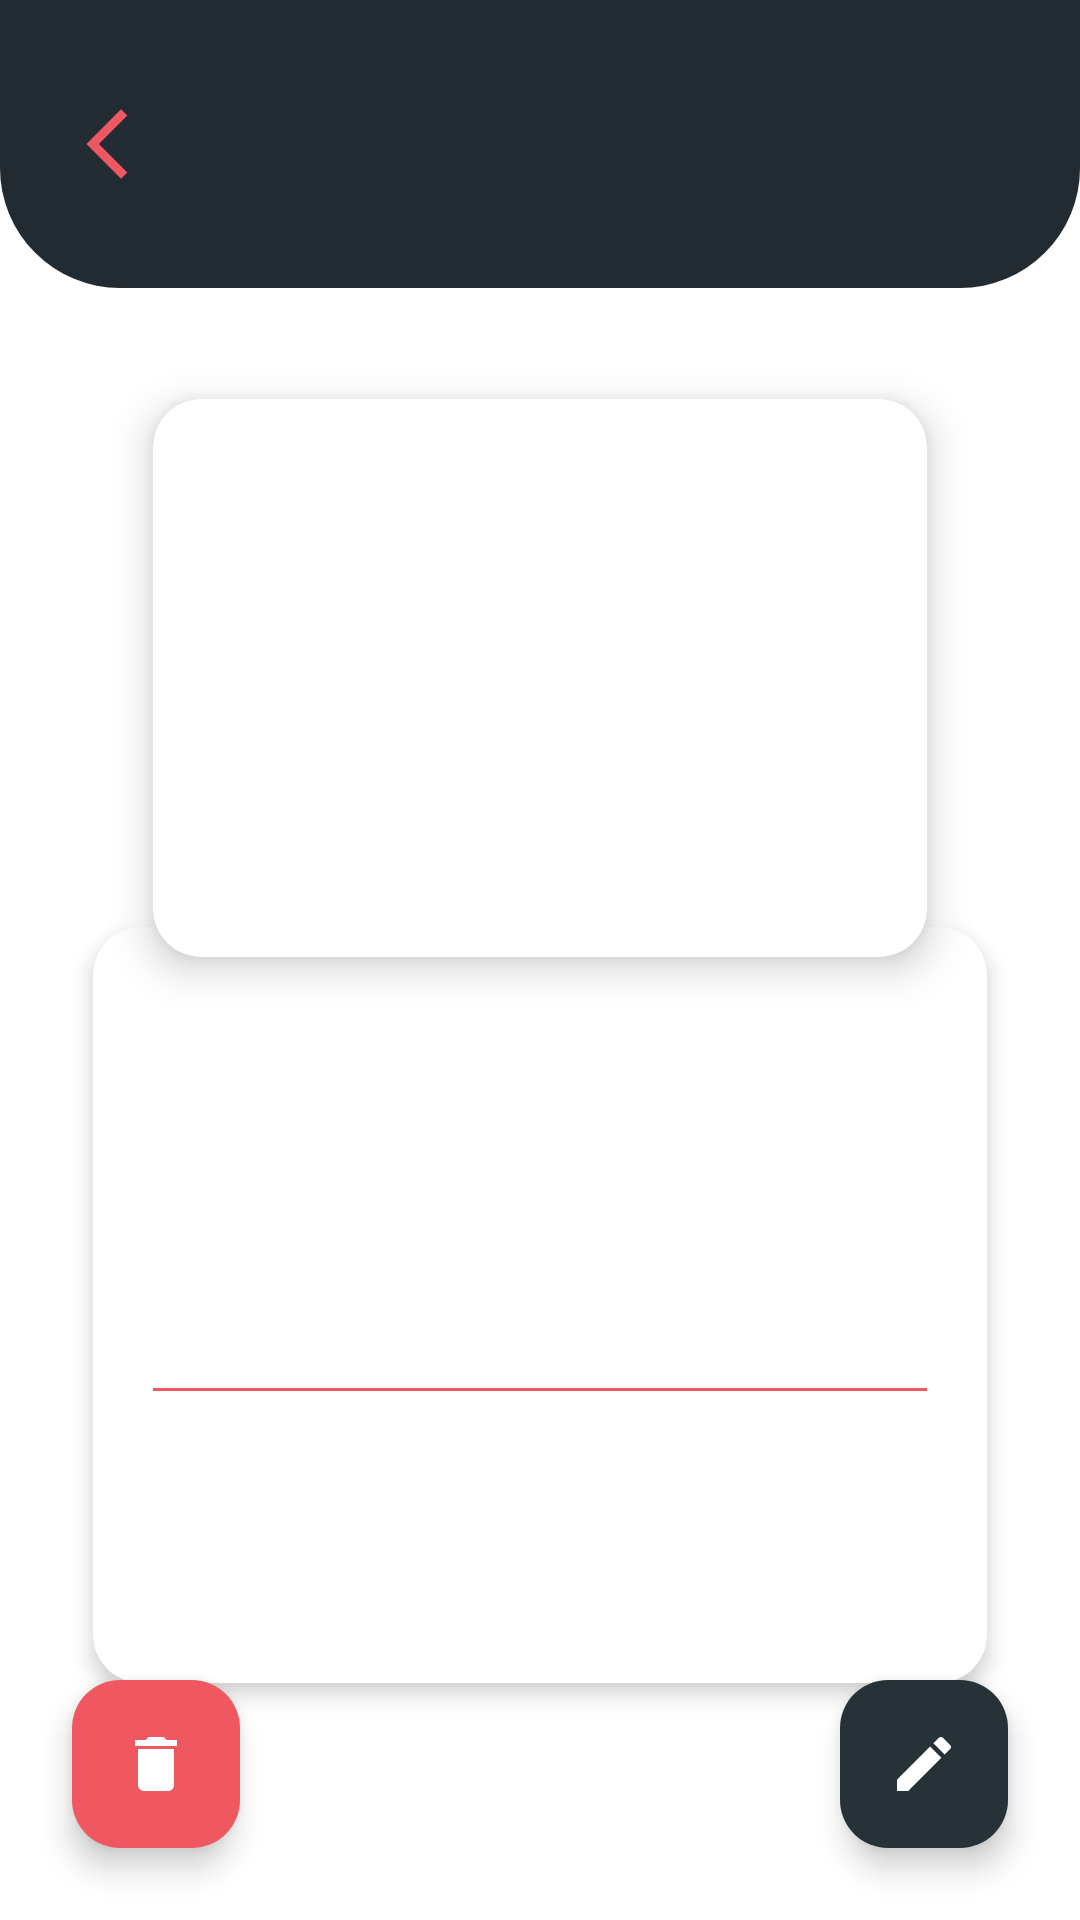

Point at icon controls on the screen. Image size 1080w x 1920h, points as (x,y).
Editar cita: (924,1764)
Eliminar cita: (156,1764)
Volver al Home: (106,144)
